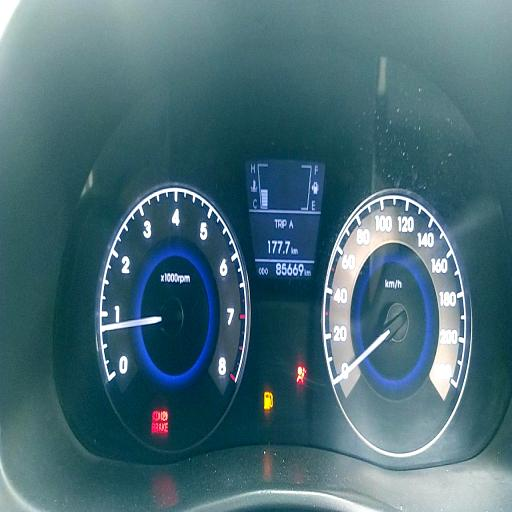brake_system_fault: (152, 411, 160, 422)
tachometer: (96, 184, 252, 447)
